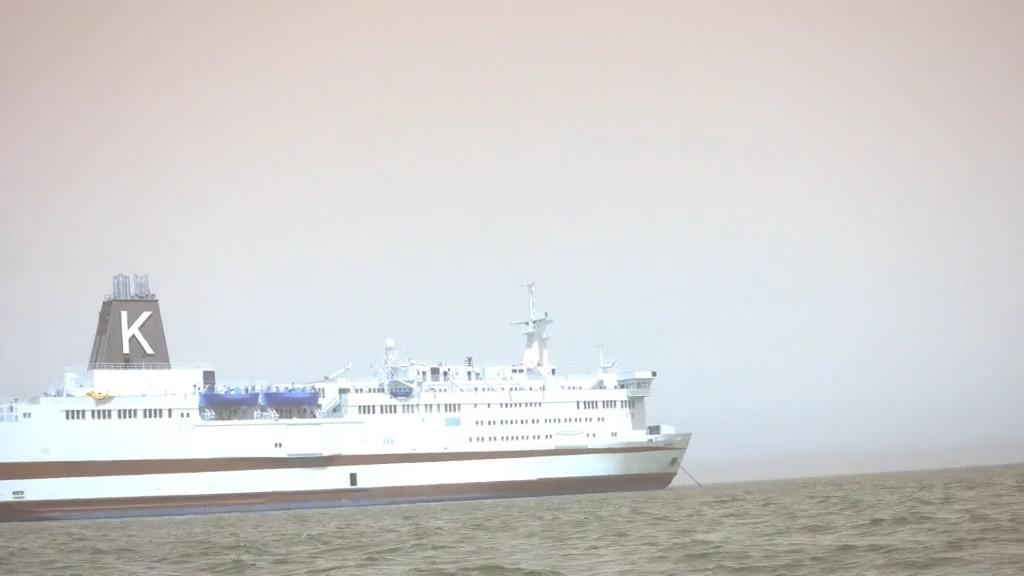PassengerShip: (0, 264, 702, 540)
